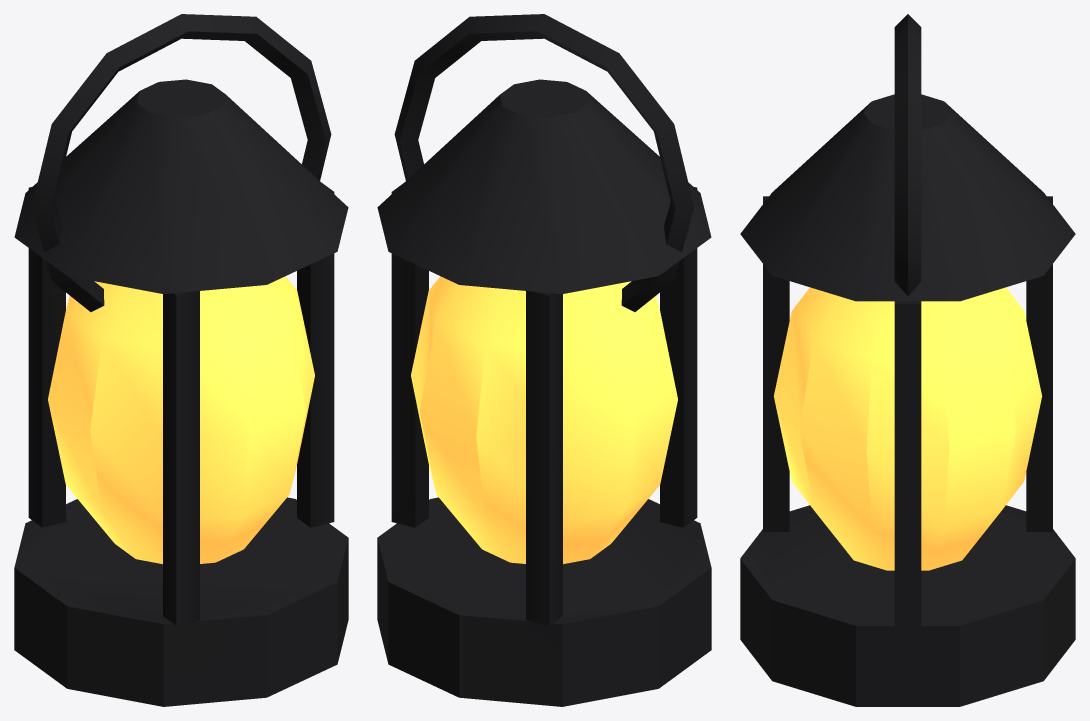
File: lantern_table.glb
The picture shows the model from 3 angles, left to right: view 1: azimuth 30°, elevation 25°; view 2: azimuth 150°, elevation 25°; view 3: azimuth 270°, elevation 25°; orthographic projection.
Parts seen in each view (by area): view 1: LanternTable; view 2: LanternTable; view 3: LanternTable.
Part boxes in pixels (x1=…): LanternTable: x1=14, y1=14, x2=348, y2=706; LanternTable: x1=377, y1=14, x2=711, y2=706; LanternTable: x1=740, y1=14, x2=1075, y2=706.
Size of the model in its own units: 0.152 by 0.301 by 0.15.
